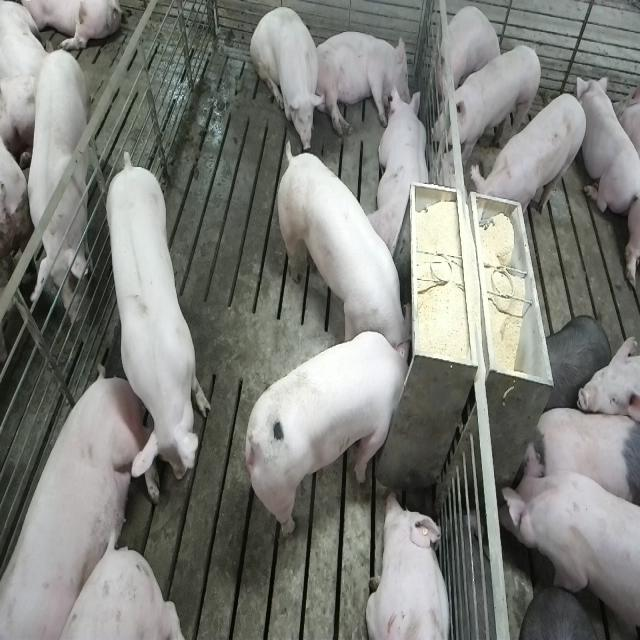Feeding: (248, 331, 420, 538), (275, 140, 410, 362)
Lateral_lying: (314, 28, 411, 136)
Sitting: (250, 6, 326, 152)
Standing: (103, 150, 207, 499), (10, 41, 104, 348), (498, 445, 638, 640), (472, 92, 588, 236), (433, 43, 542, 167), (530, 400, 637, 509), (540, 315, 612, 421)
Sternal_lying: (365, 490, 453, 640), (372, 86, 433, 260), (579, 73, 638, 222)
